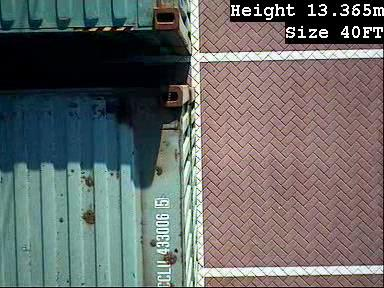groundmarker_2: (56, 56, 152, 117)
